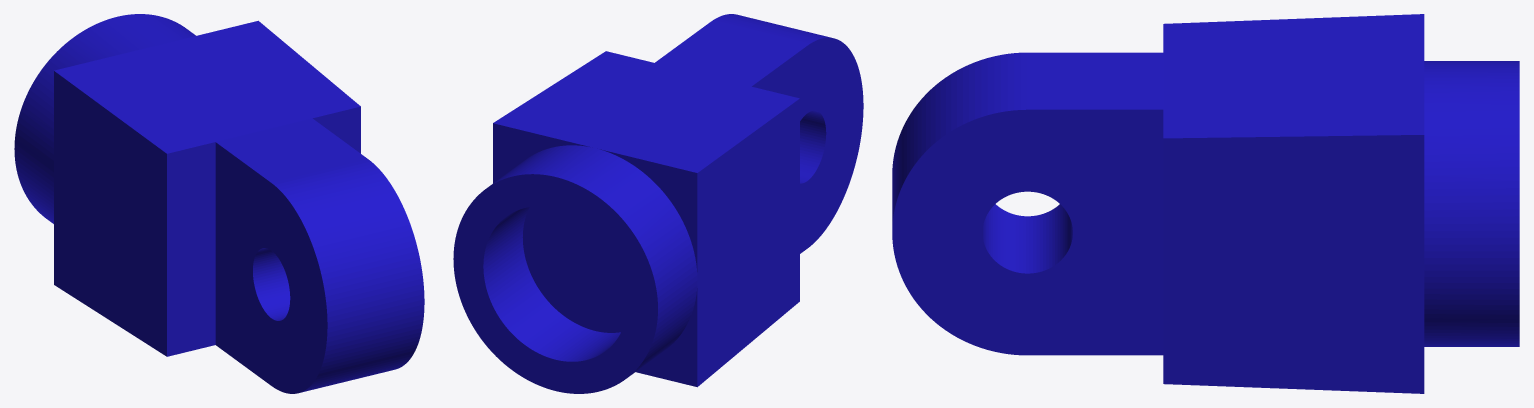
3 renders of one model, left to right at view 1: azimuth 30°, elevation 25°; view 2: azimuth 150°, elevation 25°; view 3: azimuth 270°, elevation 25°, orthographic. The views are drawn at different scales.
Parts seen in each view (by area): view 1: node; view 2: node; view 3: node.
Part boxes in pixels (box(x1,y1,x2,y2)): node: box(14, 14, 424, 393); node: box(453, 14, 863, 393); node: box(892, 14, 1519, 393).
Size of the model in its own units: 0.0821 by 0.0821 by 0.1802.
